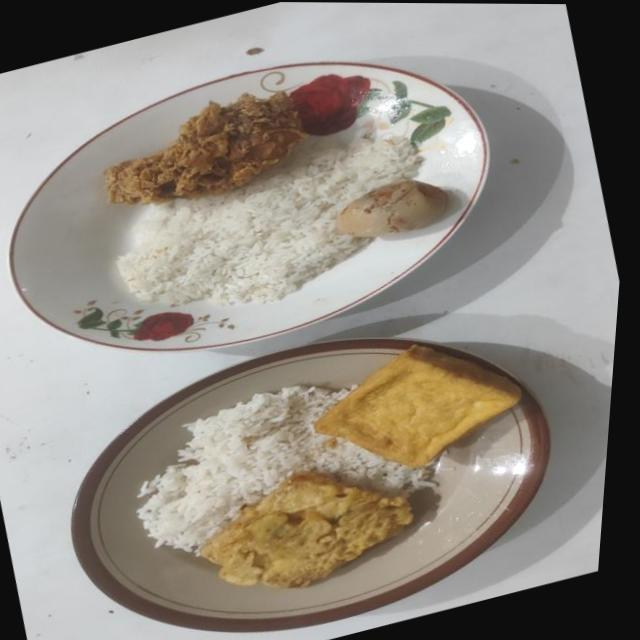nasi_putih: (118, 136, 420, 306), (136, 384, 434, 550)
tahu_goreng: (314, 344, 521, 468)
